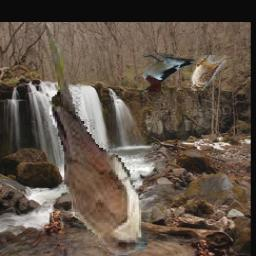Cuckoo: (44, 22, 150, 256)
Sparrow: (191, 56, 227, 92)
Woodpecker: (137, 54, 197, 94)
